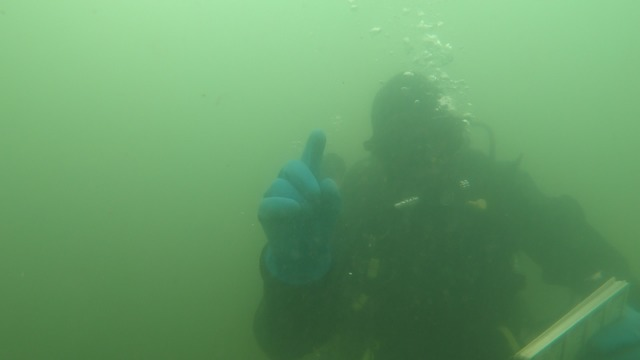Diver: (247, 67, 632, 351)
Hand: (256, 122, 357, 295)
Head: (362, 67, 485, 216)
